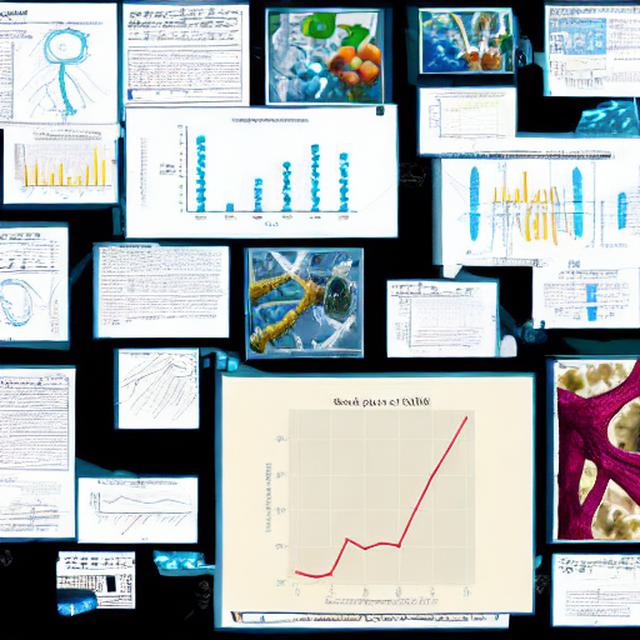Graph: (226, 382, 530, 610), (152, 111, 364, 235), (86, 480, 192, 542), (14, 133, 110, 201), (422, 93, 511, 146), (554, 55, 610, 94)
